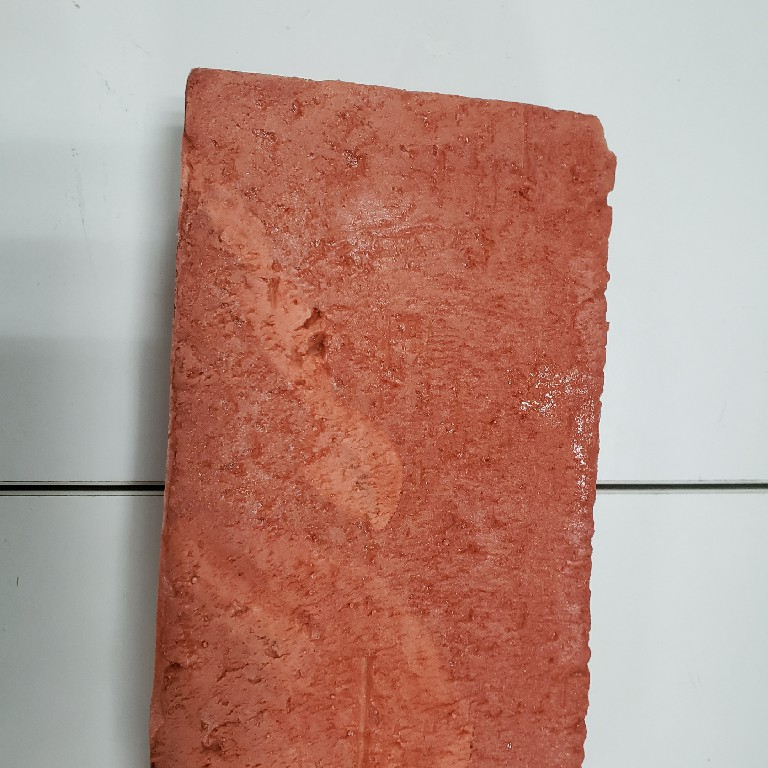brick: (145, 65, 621, 768)
